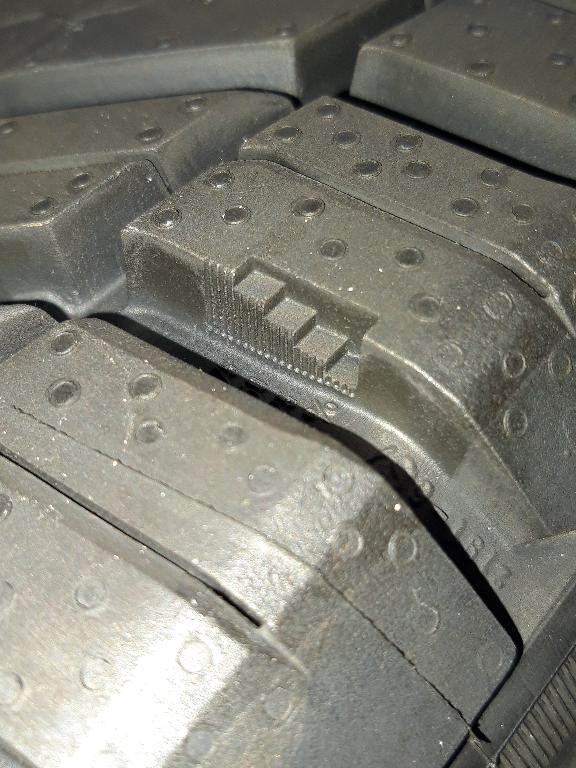temoin:100: (195, 242, 386, 408)
